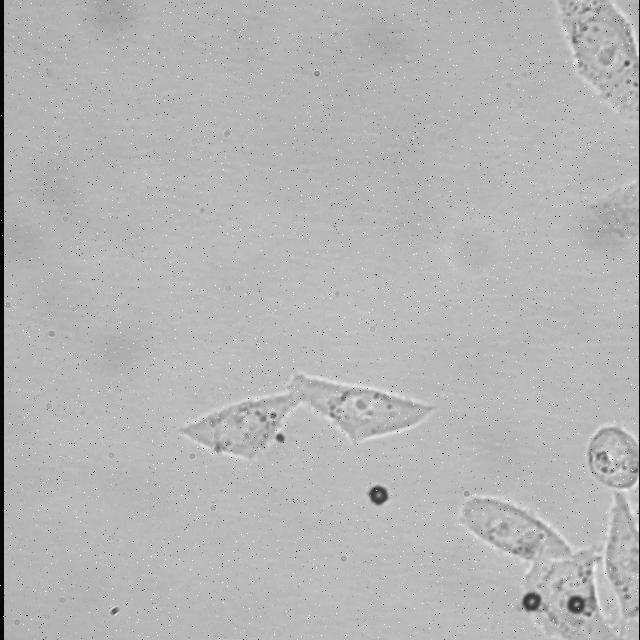microbeads: (564, 594, 586, 618), (518, 592, 540, 610), (366, 487, 384, 505)
